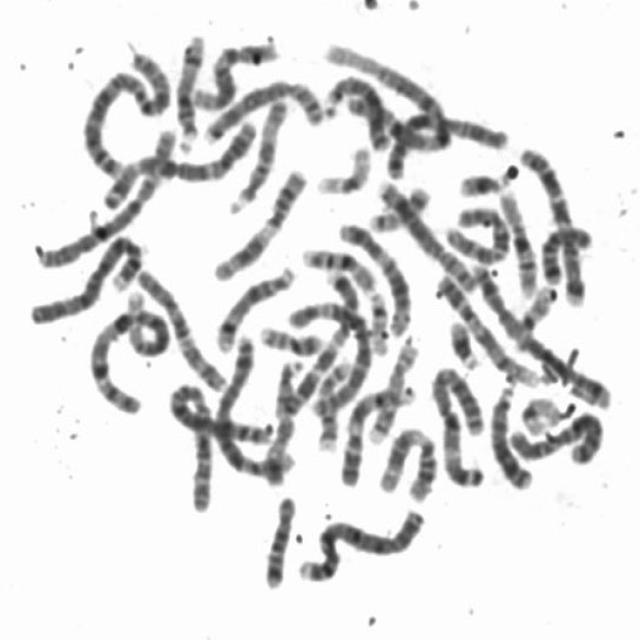A1: (320, 37, 454, 156), (82, 295, 176, 418)
A2: (76, 43, 173, 181), (162, 378, 296, 464)
A3: (96, 111, 260, 200), (424, 359, 490, 491)
B4: (26, 227, 148, 329), (292, 501, 428, 586)
B5: (468, 254, 616, 410), (209, 330, 296, 485)
C10: (128, 261, 229, 393), (443, 199, 514, 266)
C11: (204, 162, 309, 284), (374, 421, 441, 504)
C12: (334, 217, 416, 341), (184, 34, 278, 113)
C6: (28, 123, 179, 271), (278, 290, 375, 418)
C7: (514, 139, 590, 310), (277, 287, 376, 418)
C8: (374, 175, 481, 296), (196, 73, 327, 147)
C9: (431, 268, 539, 388), (337, 379, 420, 489)
D13: (318, 70, 394, 154), (483, 376, 534, 492)
D14: (212, 261, 300, 353), (170, 27, 210, 154)
D15: (223, 90, 290, 216), (263, 352, 307, 488)
E16: (492, 180, 540, 299), (296, 240, 378, 294)
E17: (364, 334, 423, 446), (311, 354, 352, 454)
E18: (260, 489, 300, 592), (536, 220, 596, 286)
F19: (312, 138, 374, 196), (515, 392, 565, 437)
F20: (363, 180, 432, 234), (255, 318, 325, 356)
G21: (452, 159, 517, 199), (442, 314, 482, 372)
G22: (512, 280, 560, 334), (362, 282, 390, 358)
X: (382, 107, 509, 182), (504, 406, 606, 468)
